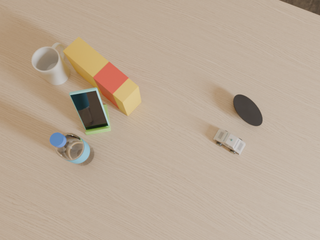bottle: (50, 133, 94, 165)
box: (63, 37, 141, 116)
cup: (32, 43, 70, 85)
mouse: (233, 95, 262, 126)
phone: (69, 87, 109, 130)
toy_car: (213, 129, 245, 155)
